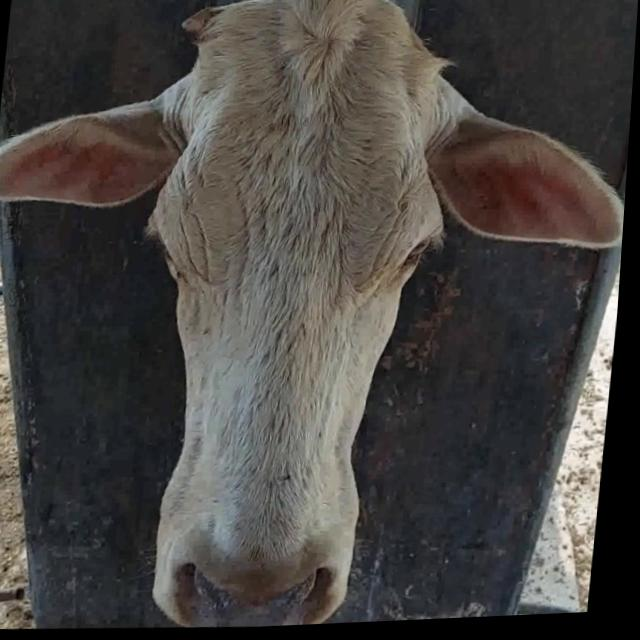cowFace: (119, 0, 472, 635)
